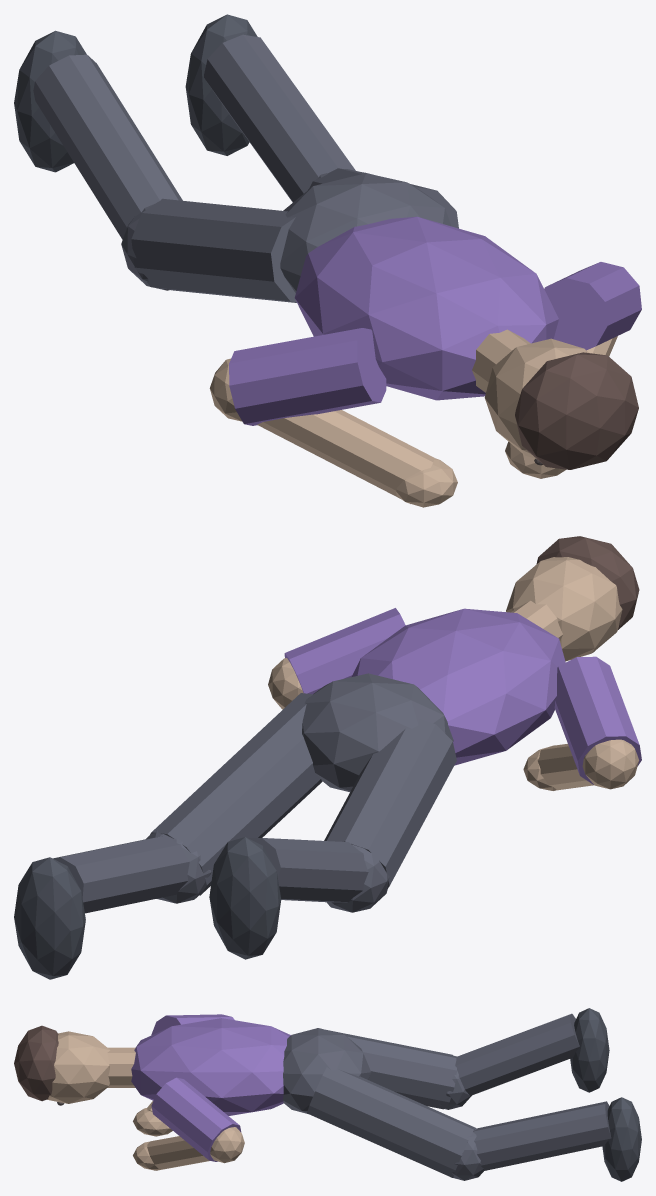
The picture shows the model from 3 angles, top to bottom: view 1: azimuth 30°, elevation 25°; view 2: azimuth 150°, elevation 25°; view 3: azimuth 270°, elevation 25°; orthographic projection. The views are drawn at different scales.
Parts seen in each view (by area): view 1: world; view 2: world; view 3: world.
Part boxes in pixels (bbox=[...]): world: bbox=[14, 14, 641, 507]; world: bbox=[14, 536, 641, 979]; world: bbox=[14, 1008, 641, 1181].
Size of the model in its own units: 0.93 by 0.44 by 2.01.
